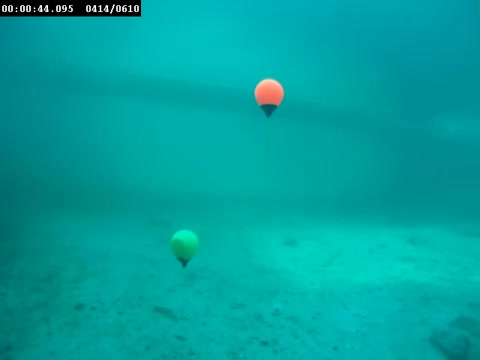buoy_green: (170, 228, 199, 272)
buoy_red: (252, 74, 284, 119)
